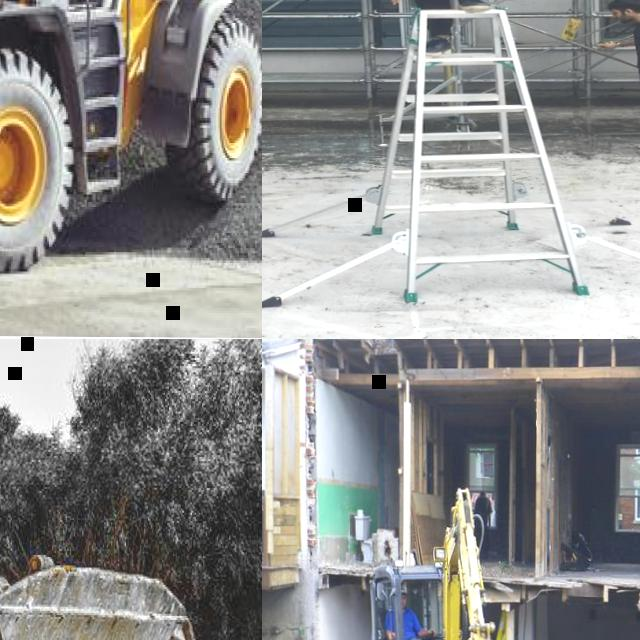NO-Hardhat: (605, 0, 640, 12), (397, 583, 408, 594)
NO-Mask: (614, 12, 634, 23), (400, 602, 405, 610)
NO-Safety Vest: (389, 608, 415, 639)
Person: (372, 0, 526, 57), (595, 0, 640, 151), (385, 584, 435, 640), (473, 489, 492, 543)
vehicle: (0, 339, 262, 640), (0, 0, 262, 280), (304, 488, 539, 640)
